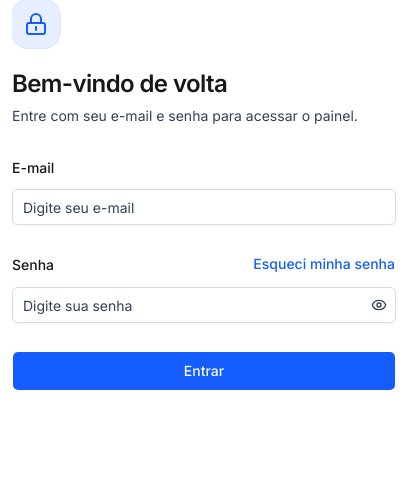
Test case: LoginFlow › mostra o erro da API quando a senha está errada
Type "gabriel@ecomtrack.com.br" into the field labelled "E-mail" at coordinates (204, 207), box [12,189,396,225]
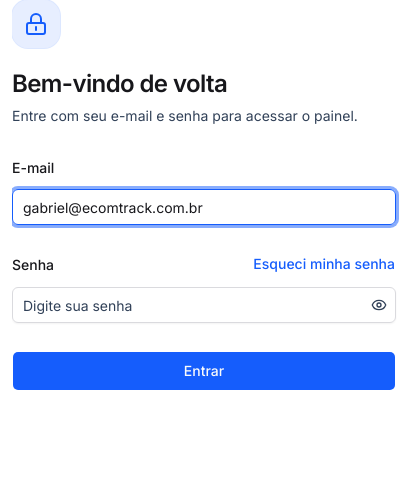
Type "senha-certa" into the password field labelled "Senha" at coordinates (190, 305), box [13,287,367,323]
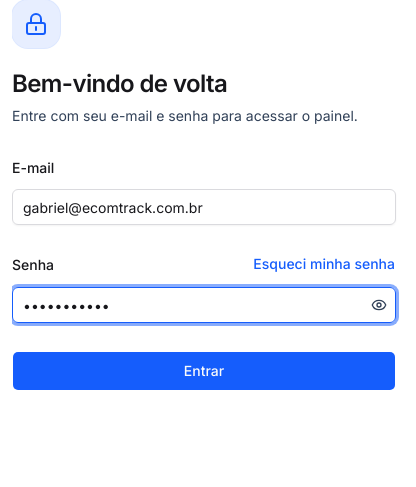
Click the button "Entrar" at coordinates (204, 371), box [12,351,396,391]
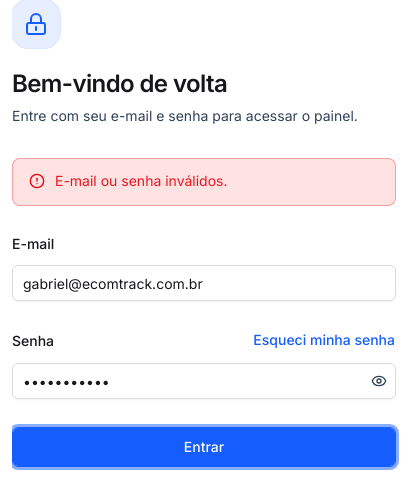
Expected: the heading "Bem-vindo de volta" is shown, [12,69,227,98]
Result: the text "E-mail ou senha inválidos." is shown at [55,172,228,189]
